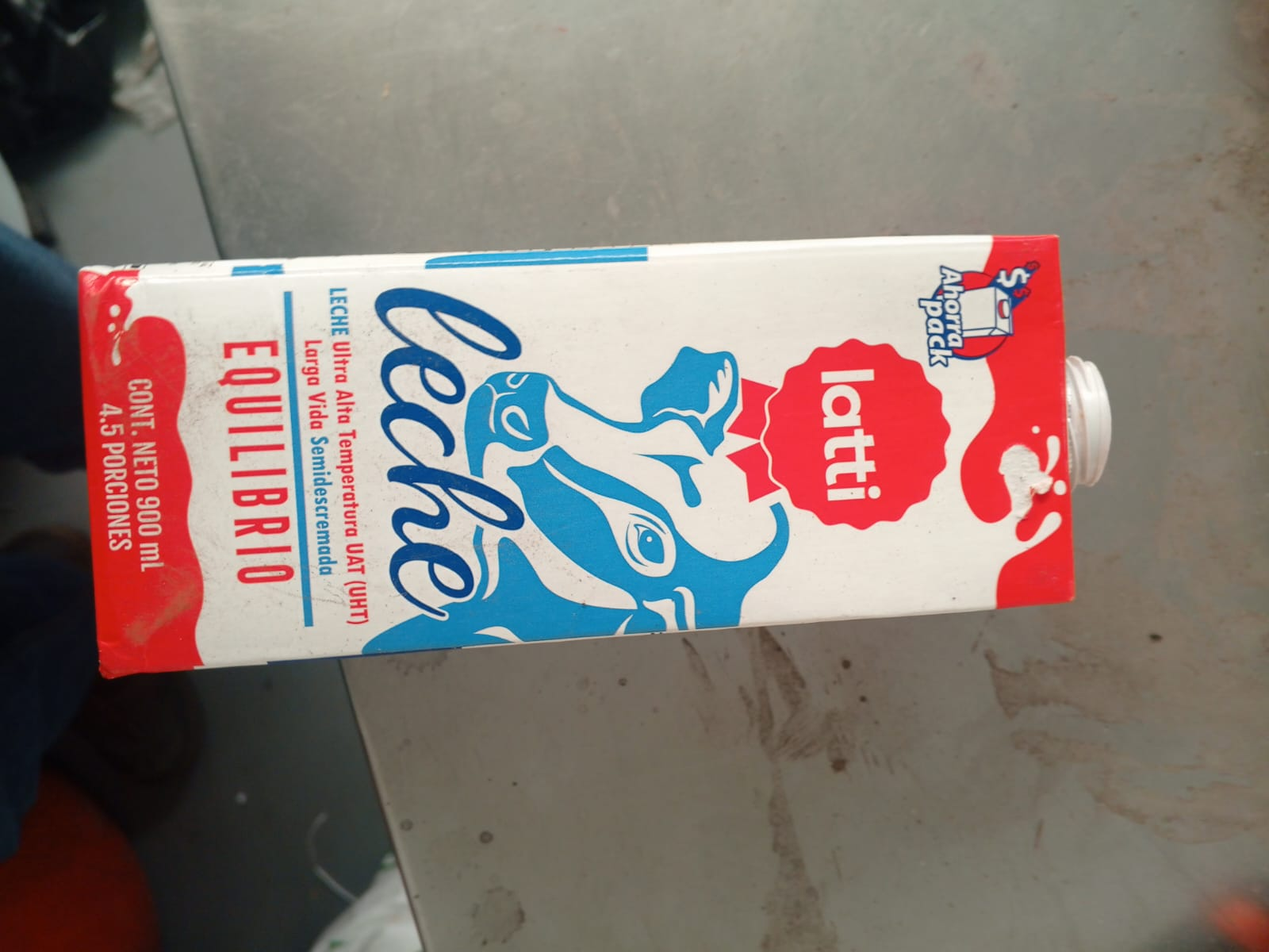Carton: (80, 235, 1077, 676)
